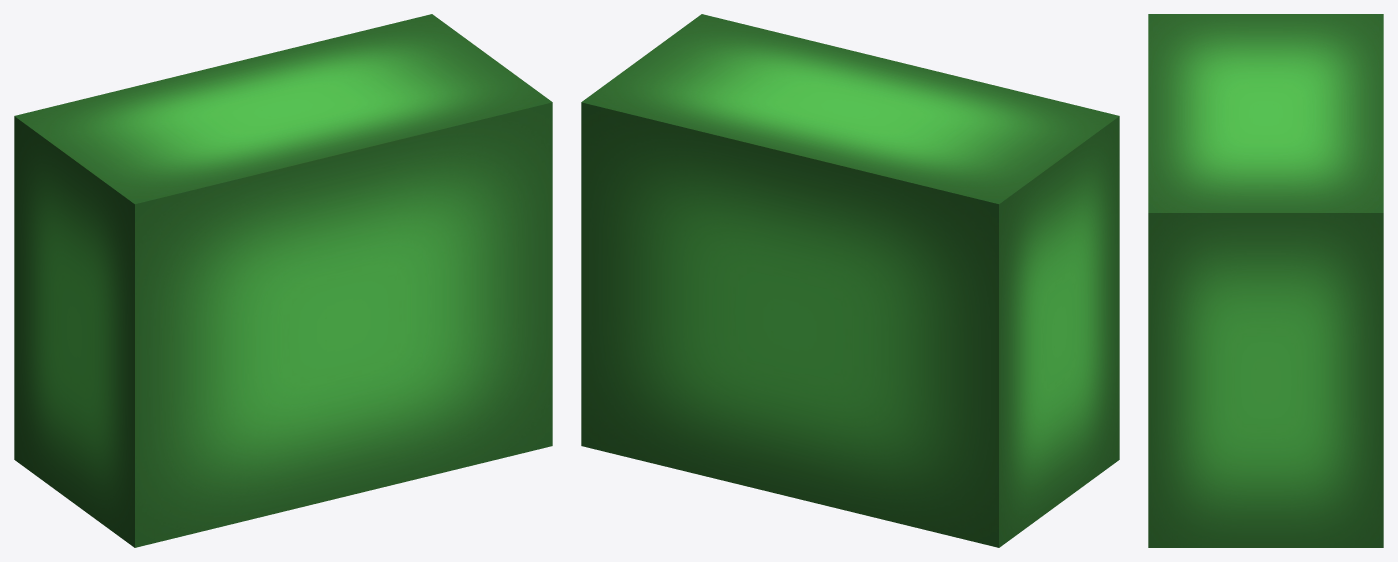
Rendered from block2.glb.
3 views of the same model, side by side, from view 1: azimuth 30°, elevation 25°; view 2: azimuth 150°, elevation 25°; view 3: azimuth 270°, elevation 25° (orthographic). The views are drawn at different scales.
Visible parts, largest first — view 1: Object_42, Object_38, Object_40; view 2: Object_7, Object_38, Object_40; view 3: Object_41, Object_38.
Part boxes in pixels (left/top/right/bottom): Object_42: left=135, top=102, right=552, bottom=547; Object_38: left=14, top=14, right=552, bottom=203; Object_40: left=14, top=116, right=134, bottom=547; Object_7: left=581, top=102, right=998, bottom=547; Object_38: left=581, top=14, right=1119, bottom=203; Object_40: left=999, top=116, right=1119, bottom=547; Object_41: left=1148, top=213, right=1383, bottom=547; Object_38: left=1148, top=14, right=1383, bottom=212.
Bounding box in the file's own units: 1.07 × 0.8382 × 0.5334.
1 material, 1 textured.
